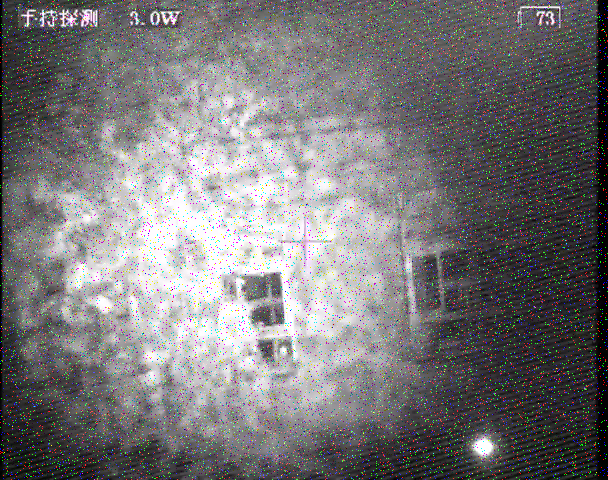my: (278, 346, 289, 357)
